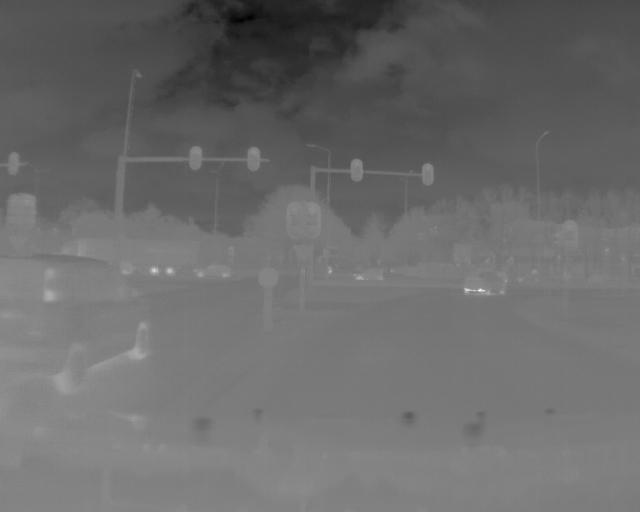car: (1, 253, 158, 396), (453, 263, 512, 303), (193, 265, 235, 281)
